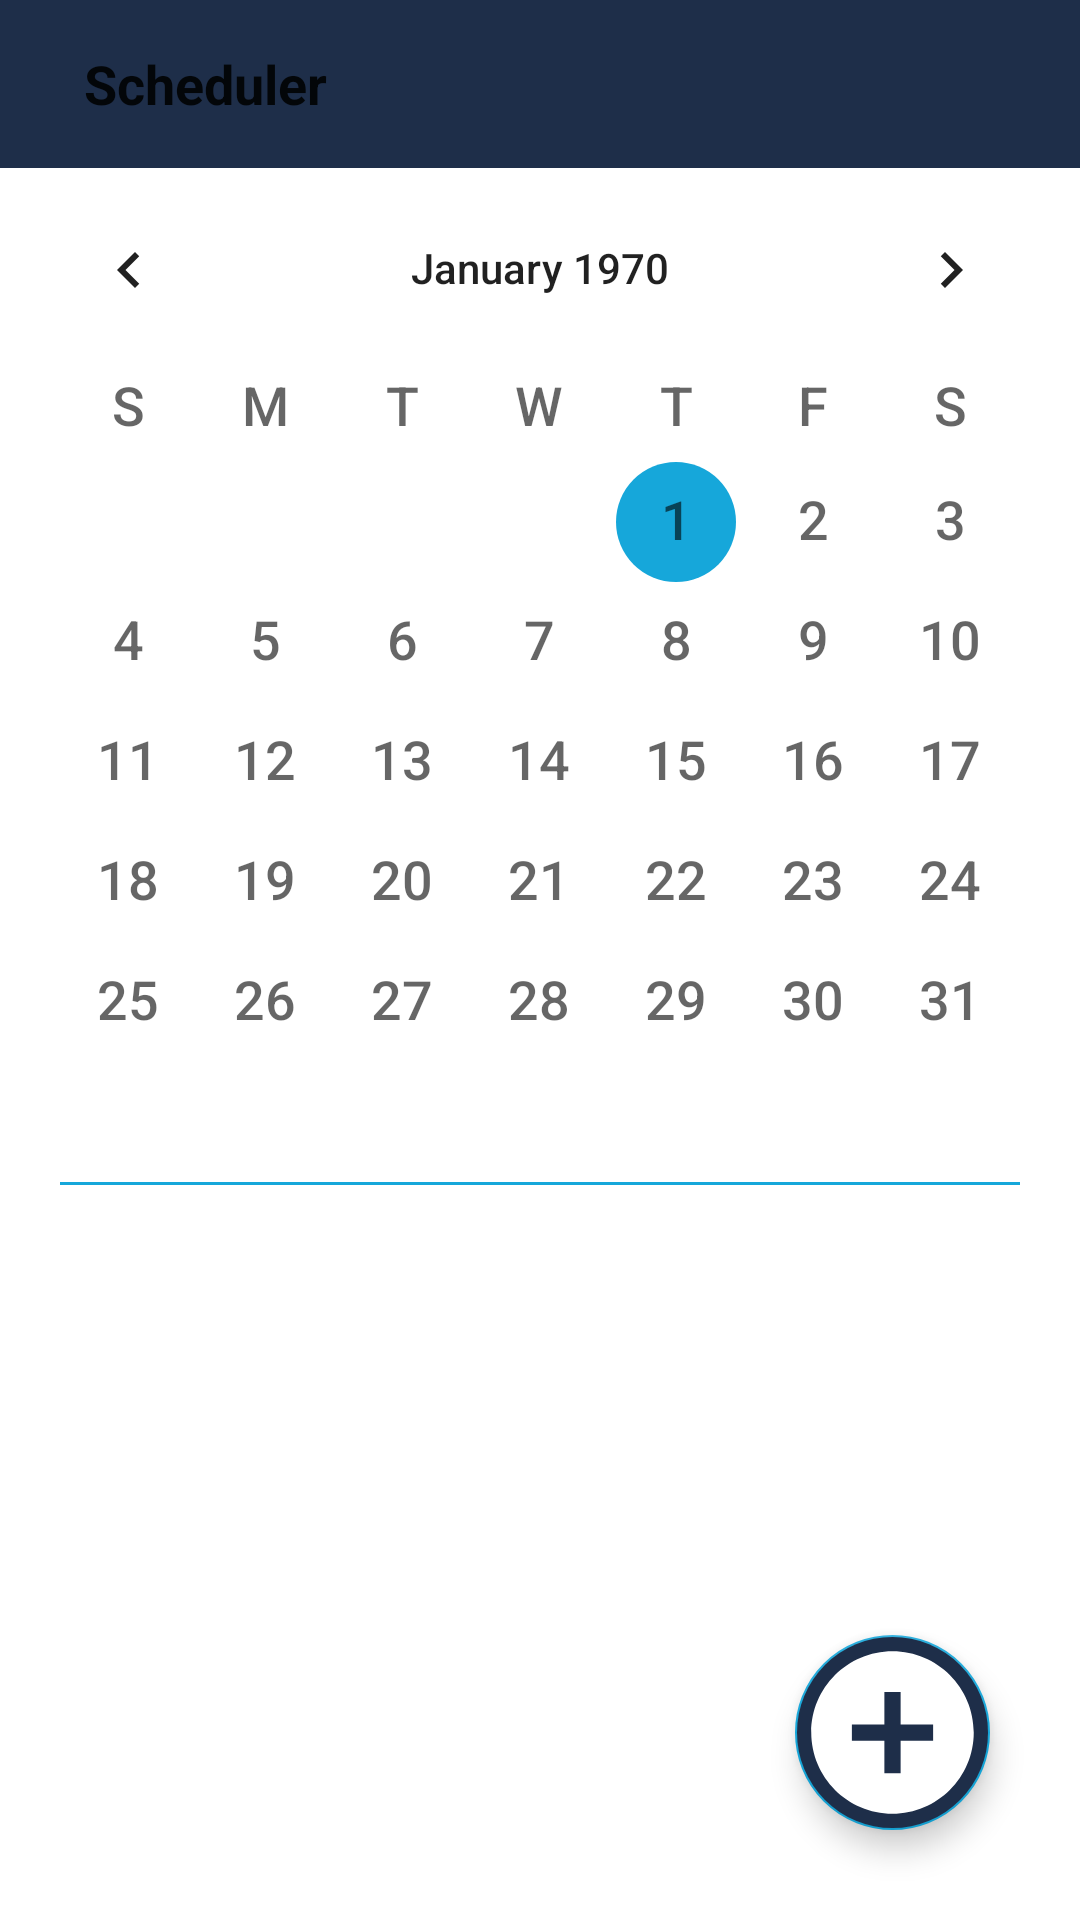

Named icons in this screenshot (1080px×1920px) and their centers, [x,y]:
add circle: [892,1732]
